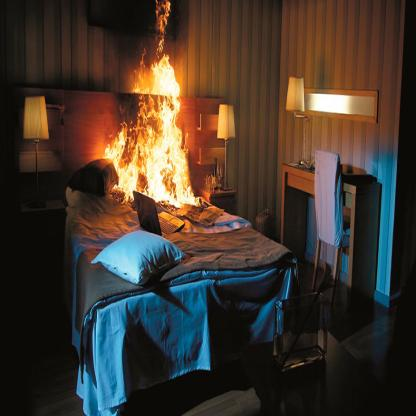fire: (101, 2, 202, 210)
